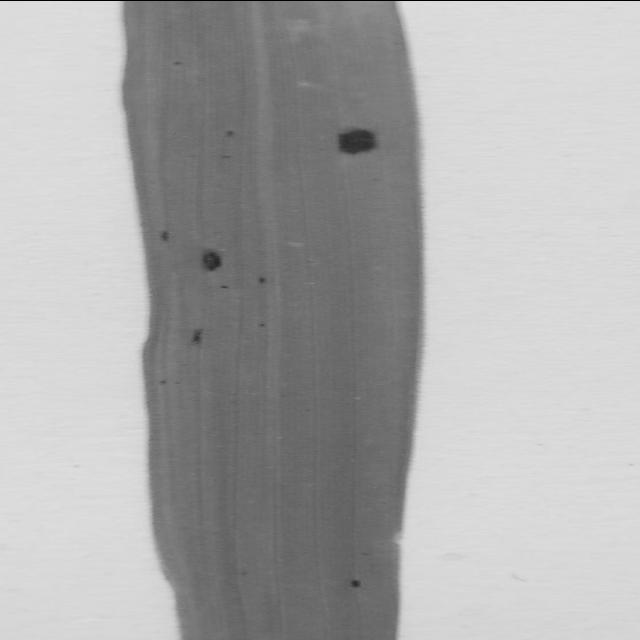Brown_Spot: (318, 124, 412, 160), (176, 312, 240, 352), (176, 243, 260, 271), (335, 571, 397, 594), (194, 0, 278, 12)
